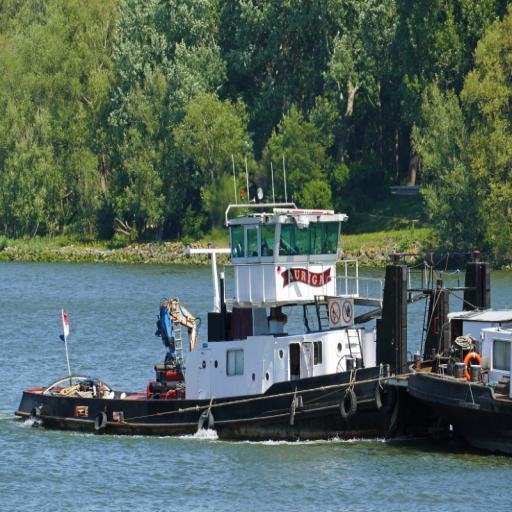tugboat: (11, 193, 495, 451)
